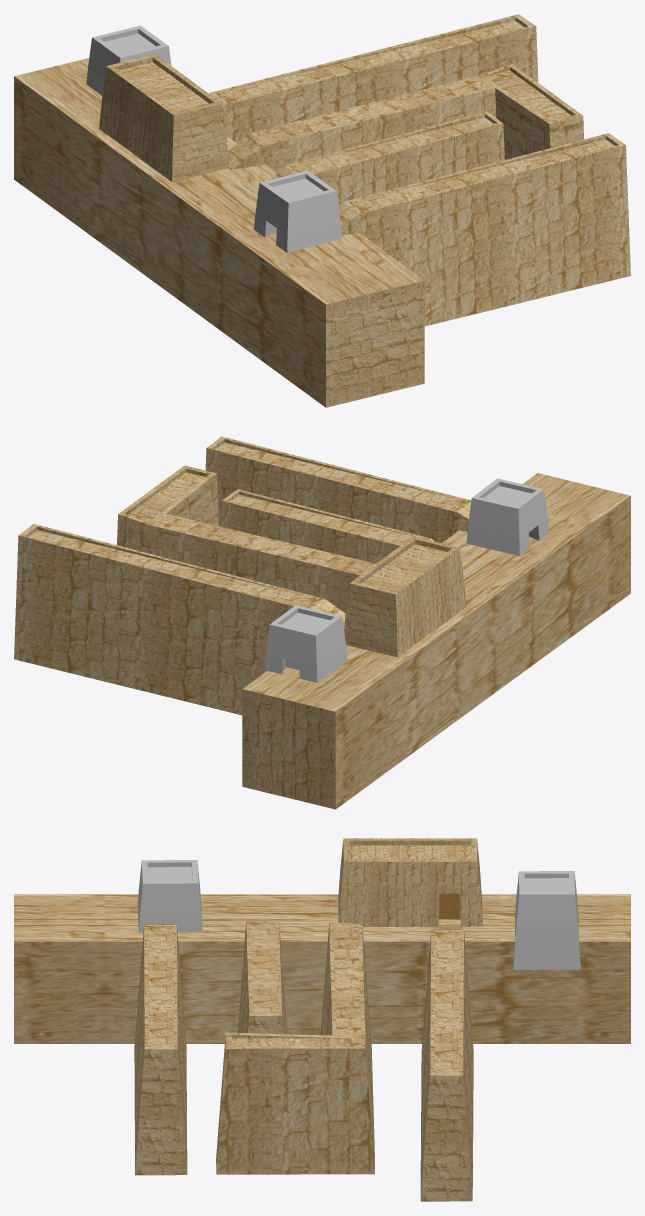
File: Egyptian Port.obj
3 views of the same model, one above another, from view 1: azimuth 30°, elevation 25°; view 2: azimuth 150°, elevation 25°; view 3: azimuth 270°, elevation 25° (orthographic). The views are drawn at different scales.
Visible parts, largest first — view 1: Cube, Cube.002_Cube.050, Cube.001_Cube.049, Cube.000_Cube.047, Cube.045_Cube.053, Cube.024_Cube.016, Cube.025_Cube.051, Cube.003_Cube.052; view 2: Cube, Cube.001_Cube.049, Cube.000_Cube.047, Cube.002_Cube.050, Cube.045_Cube.053, Cube.024_Cube.016, Cube.025_Cube.051, Cube.003_Cube.052; view 3: Cube, Cube.000_Cube.047, Cube.001_Cube.049, Cube.045_Cube.053, Cube.002_Cube.050, Cube.003_Cube.052, Cube.024_Cube.016, Cube.025_Cube.051.
Boxes of the visible parts, <box> form: Cube: <box>14,58,424,407</box>; Cube.002_Cube.050: <box>338,133,630,326</box>; Cube.001_Cube.049: <box>209,14,538,142</box>; Cube.000_Cube.047: <box>228,64,584,172</box>; Cube.045_Cube.053: <box>99,54,229,181</box>; Cube.024_Cube.016: <box>258,111,504,205</box>; Cube.025_Cube.051: <box>254,170,342,252</box>; Cube.003_Cube.052: <box>86,25,171,95</box>; Cube: <box>242,473,630,809</box>; Cube.001_Cube.049: <box>14,524,345,715</box>; Cube.000_Cube.047: <box>117,465,375,612</box>; Cube.002_Cube.050: <box>205,436,471,543</box>; Cube.045_Cube.053: <box>344,536,466,657</box>; Cube.024_Cube.016: <box>221,489,434,563</box>; Cube.025_Cube.051: <box>466,478,549,555</box>; Cube.003_Cube.052: <box>264,605,347,682</box>; Cube: <box>14,894,630,1043</box>; Cube.000_Cube.047: <box>216,923,374,1174</box>; Cube.001_Cube.049: <box>420,925,473,1201</box>; Cube.045_Cube.053: <box>338,838,482,926</box>; Cube.002_Cube.050: <box>134,924,187,1175</box>; Cube.003_Cube.052: <box>513,871,580,969</box>; Cube.024_Cube.016: <box>237,921,287,1034</box>; Cube.025_Cube.051: <box>137,860,202,932</box>.
Bounding box in the file's own units: 0.5587 × 0.2148 × 0.7171.
